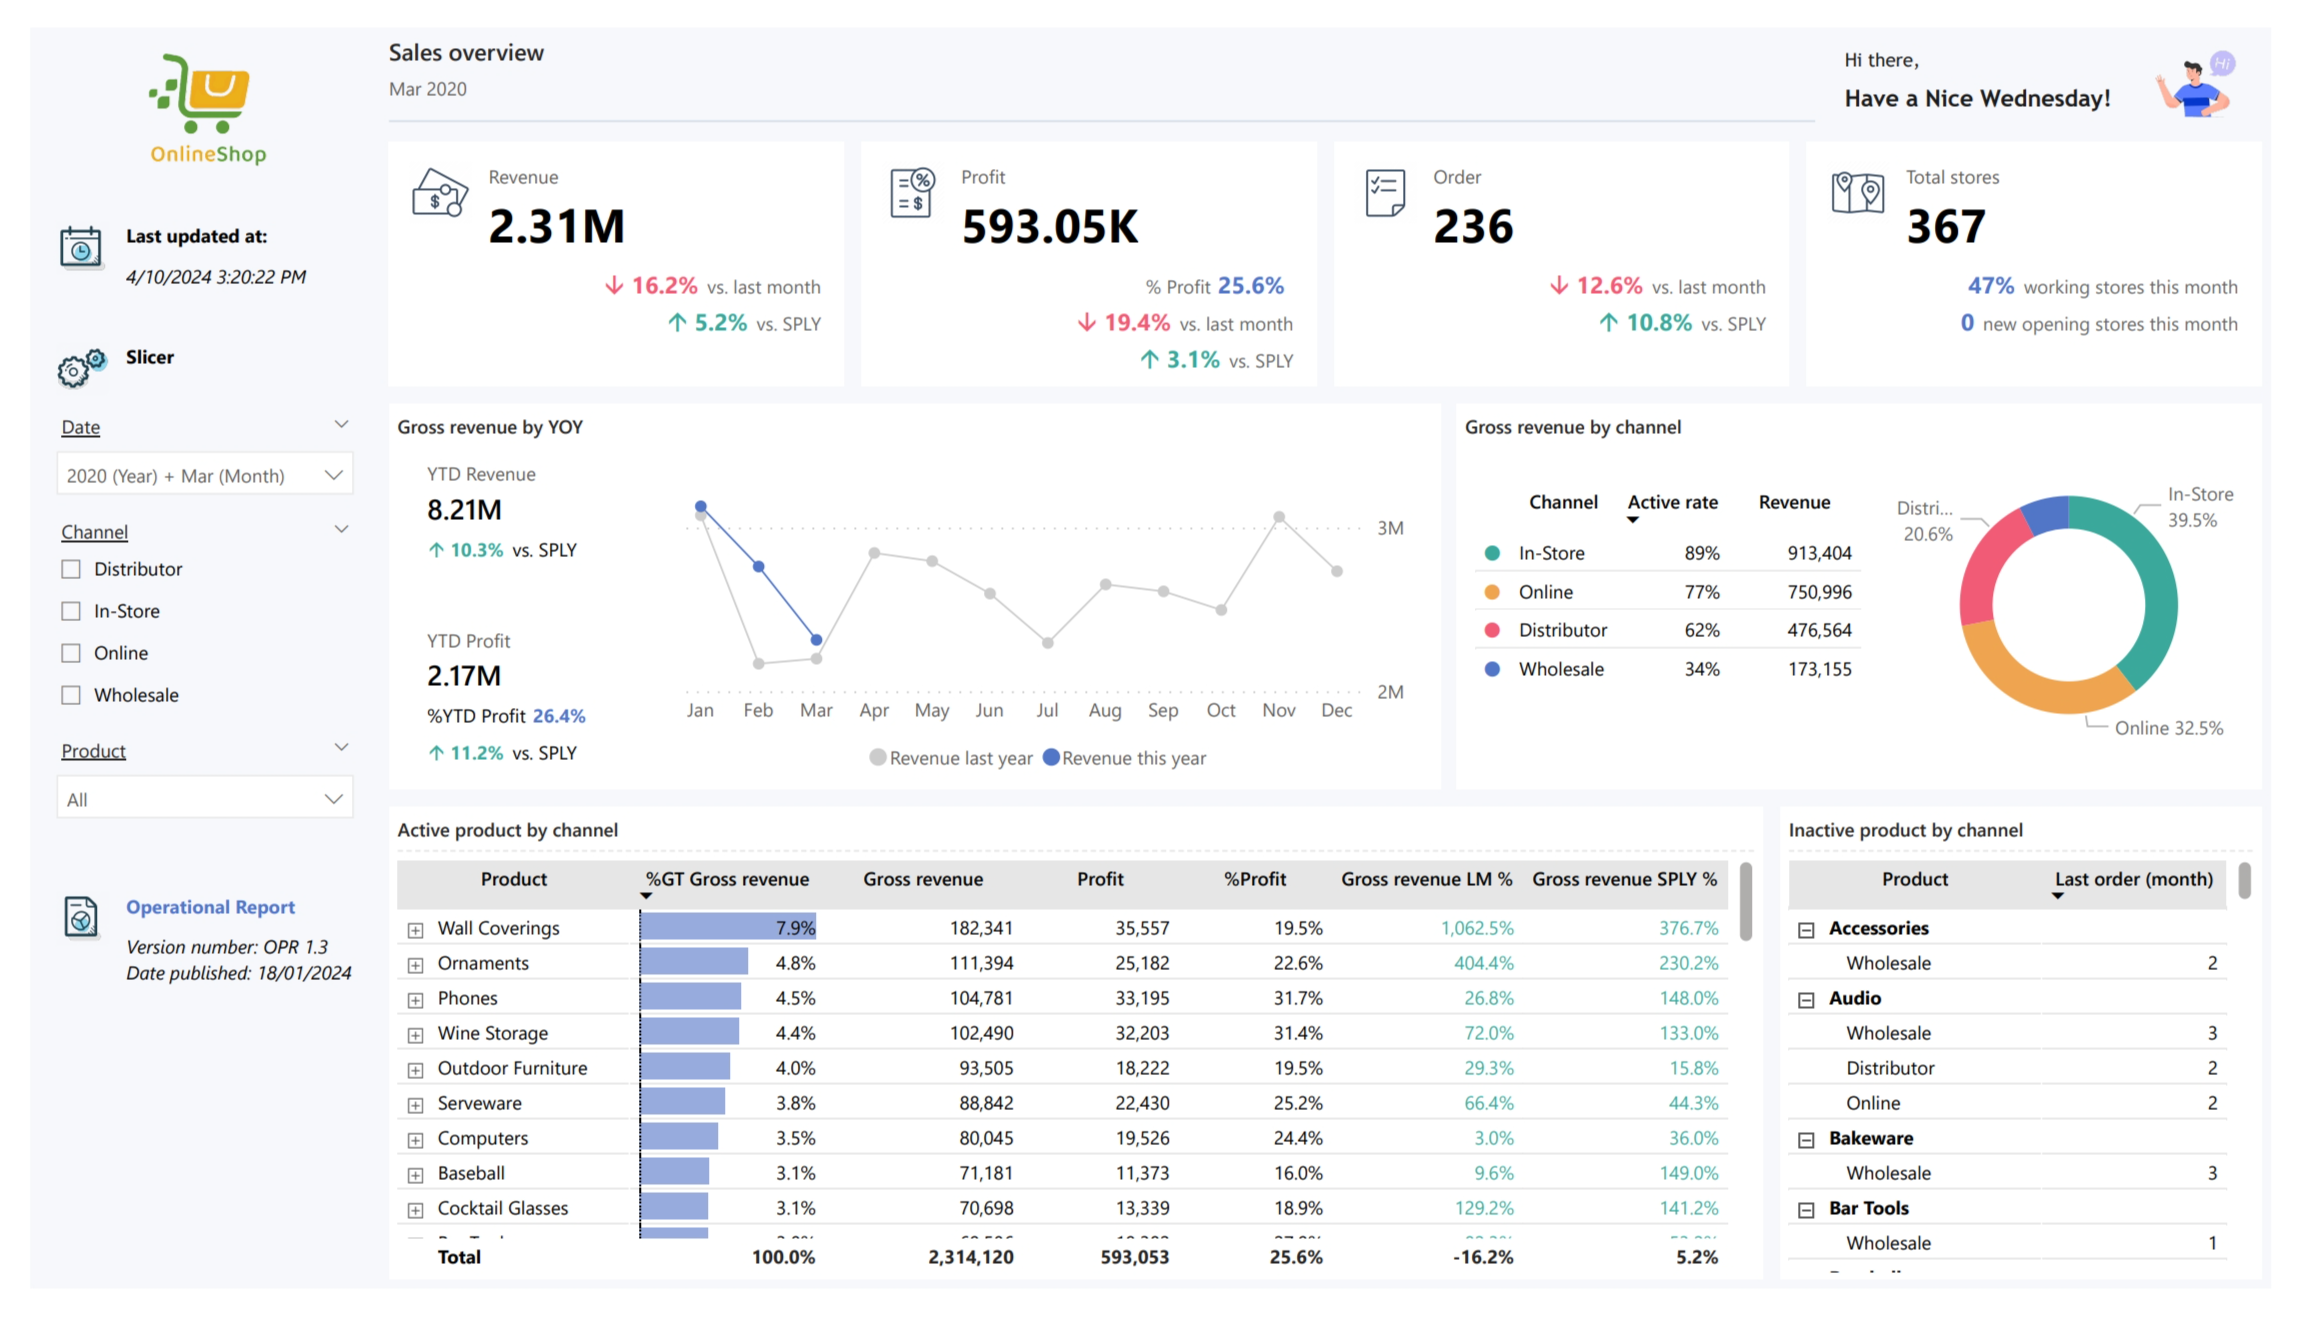

This screenshot's page, from the dashboard's own definition file:
{"tool":"powerbi","page":{"name":"Sales","canvas":[1280,720],"ordinal":0},"visuals":[{"type":"group","id":"g1","title":"Slidebar","box":[0,0,200,560],"z":0},{"type":"image","title":"Logo","box":[0,0,200,90],"z":0,"group":"g1"},{"type":"cardVisual","fields":{"Data":["Measure.Noti_SayHi"]},"box":[1020,0,260,60],"z":0,"group":"g2"},{"type":"cardVisual","title":"Slicer","fields":{"Data":["Measure.text_blank"]},"box":[0,175,200,39.8],"z":0,"group":"g3"},{"type":"shape","title":"Gross revenue by YOY","box":[205.2,215,600.5,220.4],"z":0,"group":"g4"},{"type":"shape","title":"Gross revenue by channel","box":[815,215,460,220],"z":0,"group":"g5"},{"type":"group","id":"g2","title":"Header","box":[205.5,0,1074.5,65.5],"z":1000},{"type":"shape","title":"Sales overview","box":[205.5,0,814.5,65.5],"z":1000,"group":"g2"},{"type":"cardVisual","title":"Update time","fields":{"Data":["Measure.update_time"]},"box":[0,100,200,60],"z":1000,"group":"g1"},{"type":"slicer","title":"Slicer: Year, Month","fields":{"Values":["00_Calendar.Year","00_Calendar.Month_ShortName"]},"box":[5,214.9,190.5,59.9],"z":1000,"group":"g3"},{"type":"cardVisual","fields":{"Data":["Measure.gross_revenue_ytd","Measure.profit_ytd"]},"box":[210.2,230,160,200],"z":1000,"group":"g4"},{"type":"donutChart","title":"Chart","fields":{"Category":["11_Sales.SalesChannel"],"Y":["Measure.gross_revenue"]},"box":[1060,230,210,200],"z":1000,"group":"g5"},{"type":"cardVisual","fields":{"Data":["Measure.gross_revenue","Measure.profit","Measure.order","Measure.opening_store"]},"box":[205,65,1075,140],"z":2000,"group":"g6"},{"type":"group","id":"g3","title":"Slicer","box":[0,175,200,285],"z":2000,"group":"g1"},{"type":"lineChart","title":"Chart","fields":{"Category":["11_Sales.OrderDate_Month_ShortName"],"Y":["Measure.gross_revenue_lastyear","Measure.gross_revenue_thisyear"]},"box":[355.3,225,445.4,205],"z":2000,"group":"g4"},{"type":"tableEx","title":"Table","fields":{"Values":["Measure.text_circle","11_Sales.SalesChannel","Measure.product_active","Measure.gross_revenue"]},"box":[820,255,240.3,149.9],"z":2000,"group":"g5"},{"type":"slicer","title":"Slicer: Channel","fields":{"Values":["11_Sales.SalesChannel"]},"box":[5,274.8,190.5,124.8],"z":2000,"group":"g3"},{"type":"group","id":"g4","title":"Gross revenue by YOY","box":[205.2,215,600.5,220.4],"z":3000,"group":"g6"},{"type":"slicer","title":"Slicer: Product","fields":{"Values":["02_Products.ProductName"]},"box":[5,399.6,190.5,60.4],"z":3000,"group":"g3"},{"type":"cardVisual","title":"Report name","fields":{"Data":["Measure.Version"]},"box":[0,480,200,80],"z":3000,"group":"g1"},{"type":"group","id":"g5","title":"Gross revenue by channel","box":[815,215,460,220],"z":3500,"group":"g6"},{"type":"pivotTable","title":"Active product by channel","fields":{"Rows":["02_Product.ProductName","11_Sales.SalesChannel"],"Values":["Divide(Measure.gross_revenue, ScopedEval(Measure.gross_revenue, []))","Measure.gross_revenue","Measure.profit","Measure.profit_%","Measure.gross_revenue_lm_sply_%","Measure.gross_revenue_sply_%"]},"box":[205.1,445,785.3,270],"z":4000,"group":"g6"},{"type":"pivotTable","title":"Inactive product by channel","fields":{"Rows":["02_Product.ProductName","11_Sales.SalesChannel"],"Values":["Measure.order_lasttime_month"]},"box":[1000,445,275,270],"z":5000,"group":"g6"},{"type":"group","id":"g6","title":"Detail","box":[205,65,1075,650],"z":5001}]}

Visuals, with their boxes on the page's 1280x720 design canvas (x1, y1, x2, y2). These are canvas units, not pixel positions in the 2303x1317 screenshot, which may show the page scaled, cropped or inside an application window:
"Slidebar" group: rect(0, 0, 200, 560)
"Logo" image: rect(0, 0, 200, 90)
cardVisual - Measure.Noti_SayHi: rect(1020, 0, 1280, 60)
"Slicer" cardVisual: rect(0, 175, 200, 215)
"Gross revenue by YOY" shape: rect(205, 215, 806, 435)
"Gross revenue by channel" shape: rect(815, 215, 1275, 435)
"Header" group: rect(206, 0, 1280, 66)
"Sales overview" shape: rect(206, 0, 1020, 66)
"Update time" cardVisual: rect(0, 100, 200, 160)
"Slicer: Year, Month" slicer: rect(5, 215, 196, 275)
cardVisual - Measure.gross_revenue_ytd x Measure.profit_ytd: rect(210, 230, 370, 430)
"Chart" donutChart: rect(1060, 230, 1270, 430)
cardVisual - Measure.gross_revenue x Measure.profit: rect(205, 65, 1280, 205)
"Slicer" group: rect(0, 175, 200, 460)
"Chart" lineChart: rect(355, 225, 801, 430)
"Table" tableEx: rect(820, 255, 1060, 405)
"Slicer: Channel" slicer: rect(5, 275, 196, 400)
"Gross revenue by YOY" group: rect(205, 215, 806, 435)
"Slicer: Product" slicer: rect(5, 400, 196, 460)
"Report name" cardVisual: rect(0, 480, 200, 560)
"Gross revenue by channel" group: rect(815, 215, 1275, 435)
"Active product by channel" pivotTable: rect(205, 445, 990, 715)
"Inactive product by channel" pivotTable: rect(1000, 445, 1275, 715)
"Detail" group: rect(205, 65, 1280, 715)
